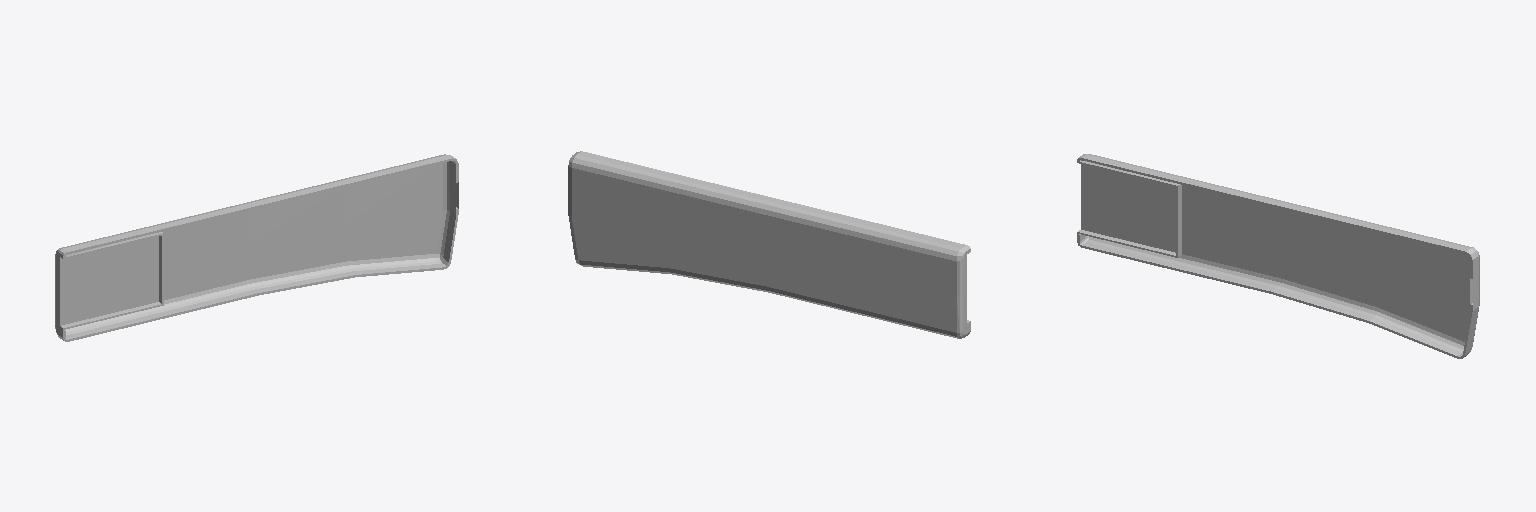
File: knife_handle_R.obj
The picture shows the model from 3 angles: view 1: azimuth 30°, elevation 25°; view 2: azimuth 150°, elevation 25°; view 3: azimuth 330°, elevation 25°; orthographic projection.
Visible parts, largest first — view 1: Cube.004; view 2: Cube.004; view 3: Cube.004.
Boxes of the visible parts, <box> form: Cube.004: <box>55,154,458,341</box>; Cube.004: <box>568,151,970,338</box>; Cube.004: <box>1077,154,1479,358</box>.
Size of the model in its own units: 142 by 37.41 by 6.24.